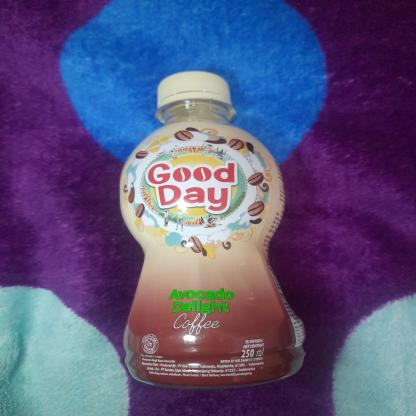bottle: (112, 67, 310, 391)
